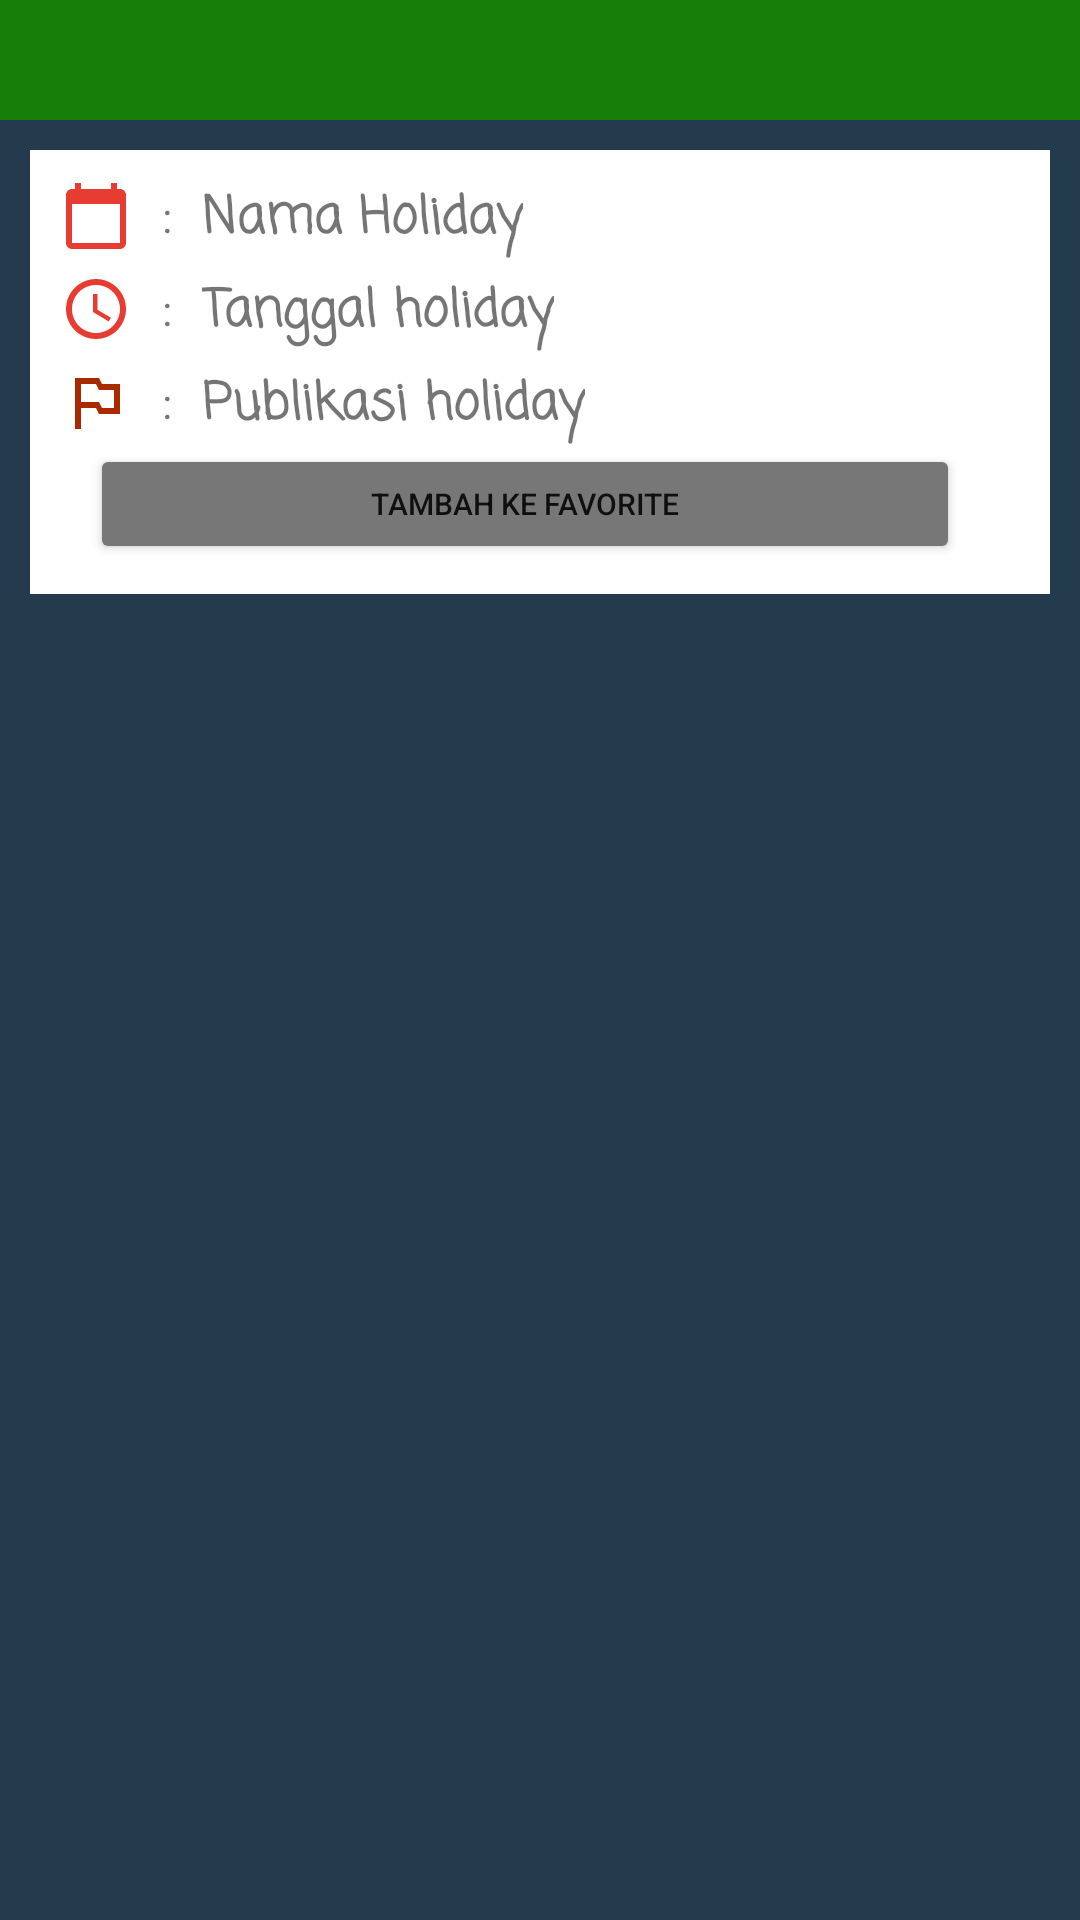

Where icons sit on this 1080x1920 app screen, as {"x1": x1, "y1": y1, "x2": x2, "y2": y2}:
access time: {"x1": 66, "y1": 279, "x2": 126, "y2": 339}
calendar today: {"x1": 66, "y1": 183, "x2": 126, "y2": 249}
flag: {"x1": 75, "y1": 378, "x2": 120, "y2": 429}
